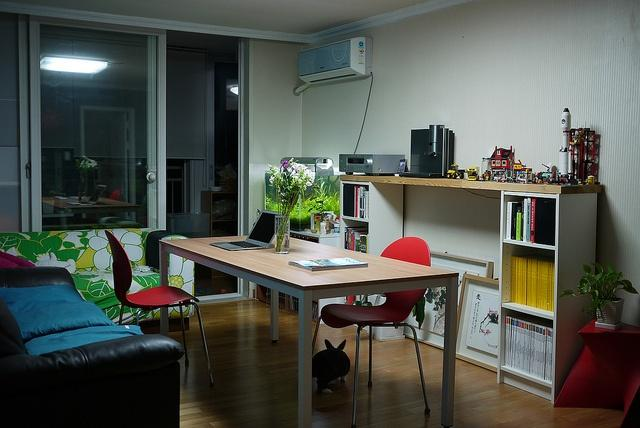AC: (296, 35, 372, 86)
Meja: (158, 232, 458, 427)
Rak: (498, 190, 558, 405), (338, 180, 370, 253)
